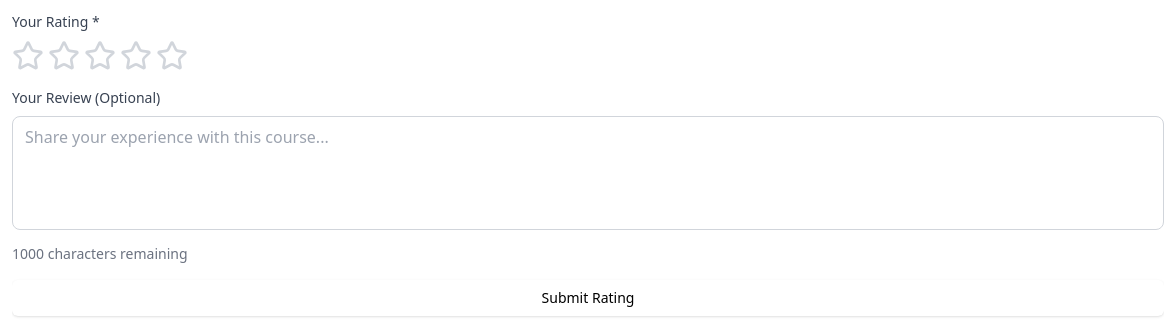
RatingInput Component › Star Rating Interactions › should update rating when star is clicked
What coordinates should you click on to do the following:
click the button named "Rate 3 stars"
I would click on:
 (100, 56)
Its box is [84,40,116,72].
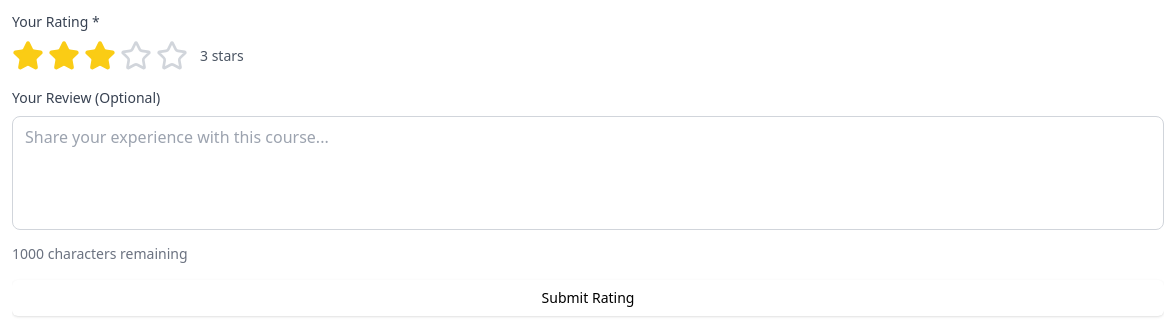
Result: the text "3 stars" is shown at [200,46,244,66]
